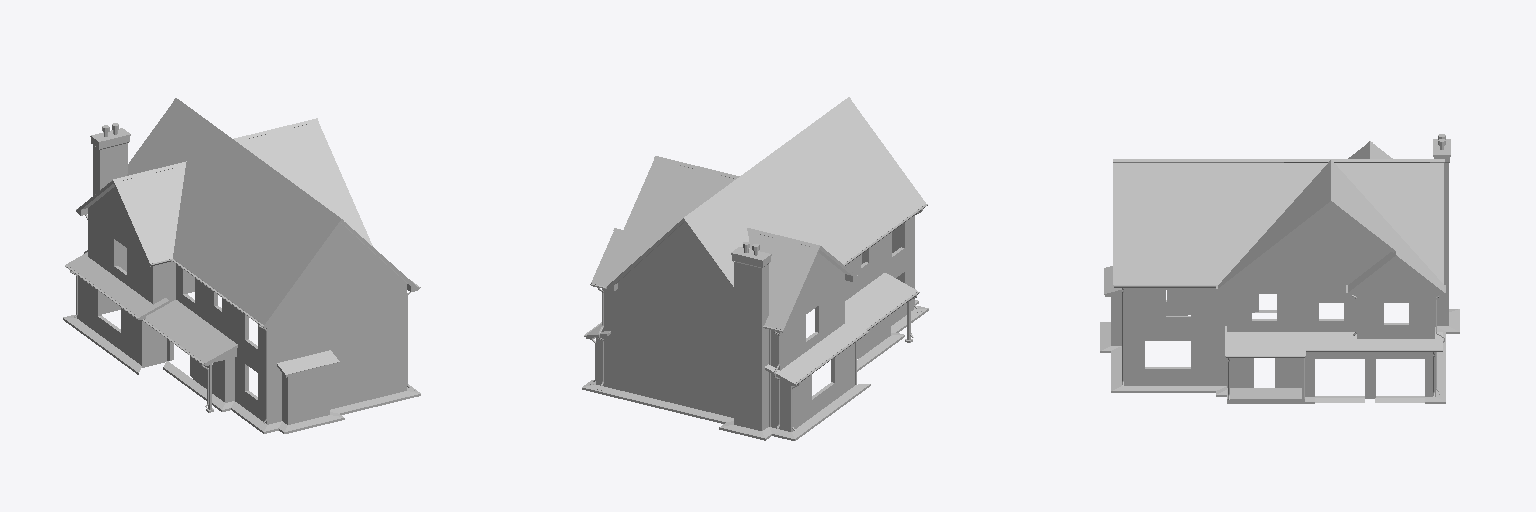
File: House_exterior.obj
3 views of the same model, side by side, from view 1: azimuth 30°, elevation 25°; view 2: azimuth 150°, elevation 25°; view 3: azimuth 270°, elevation 25° (orthographic).
Visible parts, largest first — view 1: SM_House_exterior; view 2: SM_House_exterior; view 3: SM_House_exterior.
Boxes of the visible parts, <box> form: SM_House_exterior: <box>63,98,420,433</box>; SM_House_exterior: <box>582,97,928,440</box>; SM_House_exterior: <box>1100,134,1459,403</box>.
Bounding box in the file's own units: 0.1218 × 0.1034 × 0.172.